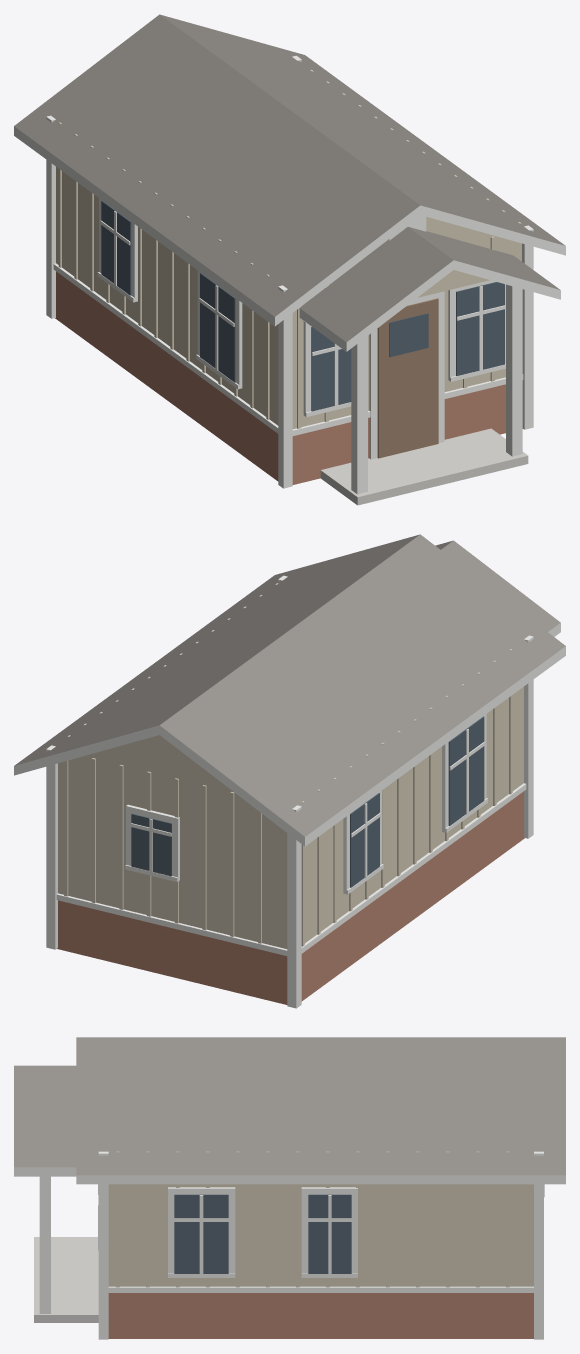
The model's file is pocket-craftsman.glb.
3 views of the same model, one above another, from view 1: azimuth 30°, elevation 25°; view 2: azimuth 150°, elevation 25°; view 3: azimuth 270°, elevation 25° (orthographic). The views are drawn at different scales.
Visible parts, largest first — view 1: The Pocket (craftsman); view 2: The Pocket (craftsman); view 3: The Pocket (craftsman).
Part boxes in pixels (x1=…): The Pocket (craftsman): x1=14, y1=14, x2=565, y2=505; The Pocket (craftsman): x1=14, y1=534, x2=565, y2=1008; The Pocket (craftsman): x1=14, y1=1037, x2=565, y2=1339.
Bounding box in the file's own units: 4.42 × 3.81 × 7.73.
